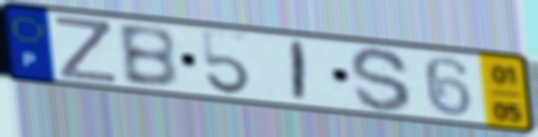5: (198, 27, 254, 98)
6: (421, 54, 476, 119)
B: (113, 23, 181, 91)
I: (290, 38, 309, 104)
S: (347, 45, 414, 115)
Z: (52, 13, 121, 86)
